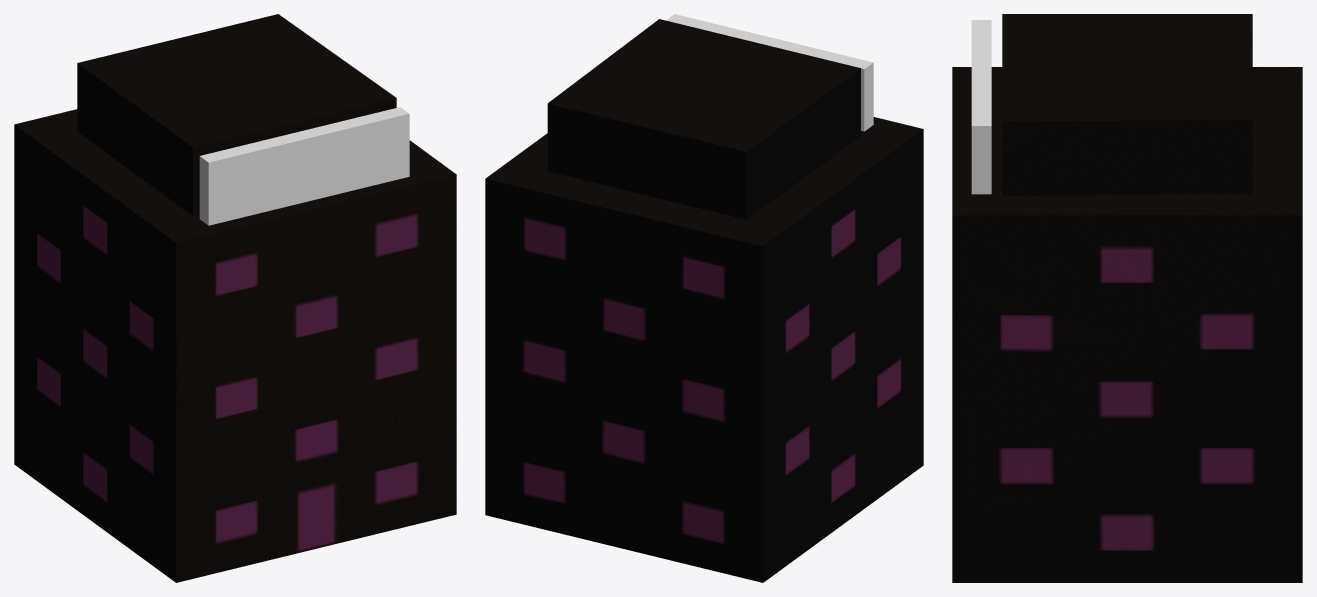
The model's file is PoNG Office LP.FBX.
3 views of the same model, side by side, from view 1: azimuth 30°, elevation 25°; view 2: azimuth 150°, elevation 25°; view 3: azimuth 270°, elevation 25° (orthographic). The views are drawn at different scales.
Visible parts, largest first — view 1: PoNG Building LP, Box008; view 2: PoNG Building LP, Box008; view 3: PoNG Building LP, Box008.
Part boxes in pixels (box(x1,y1,x2,y2)): PoNG Building LP: box(14, 14, 456, 582); Box008: box(199, 107, 409, 225); PoNG Building LP: box(485, 19, 923, 582); Box008: box(666, 14, 873, 131); PoNG Building LP: box(952, 14, 1302, 582); Box008: box(971, 20, 991, 194).
Size of the model in its own units: 95 by 132 by 95.
1 material, 1 textured.
